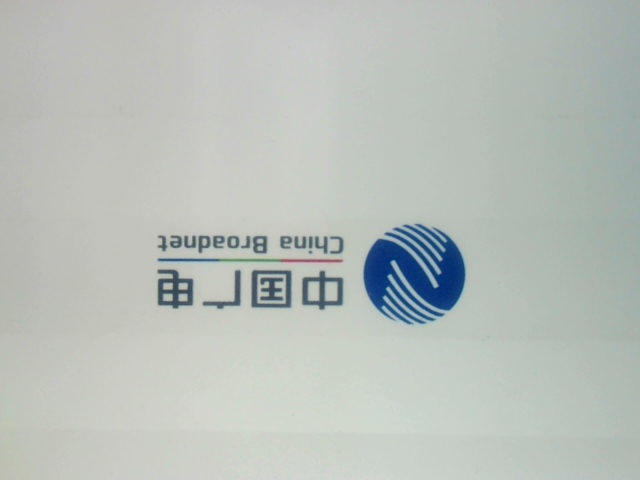AW_ChinaBroadNet: (146, 211, 481, 334)
